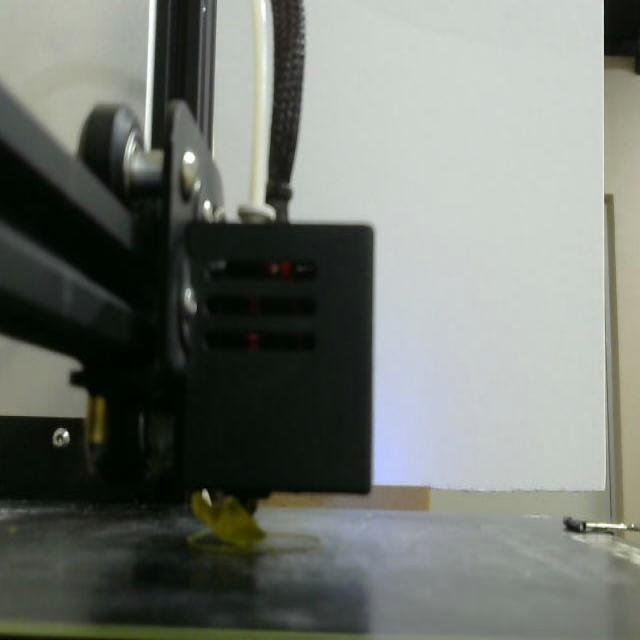spaghetti: (192, 488, 264, 546)
